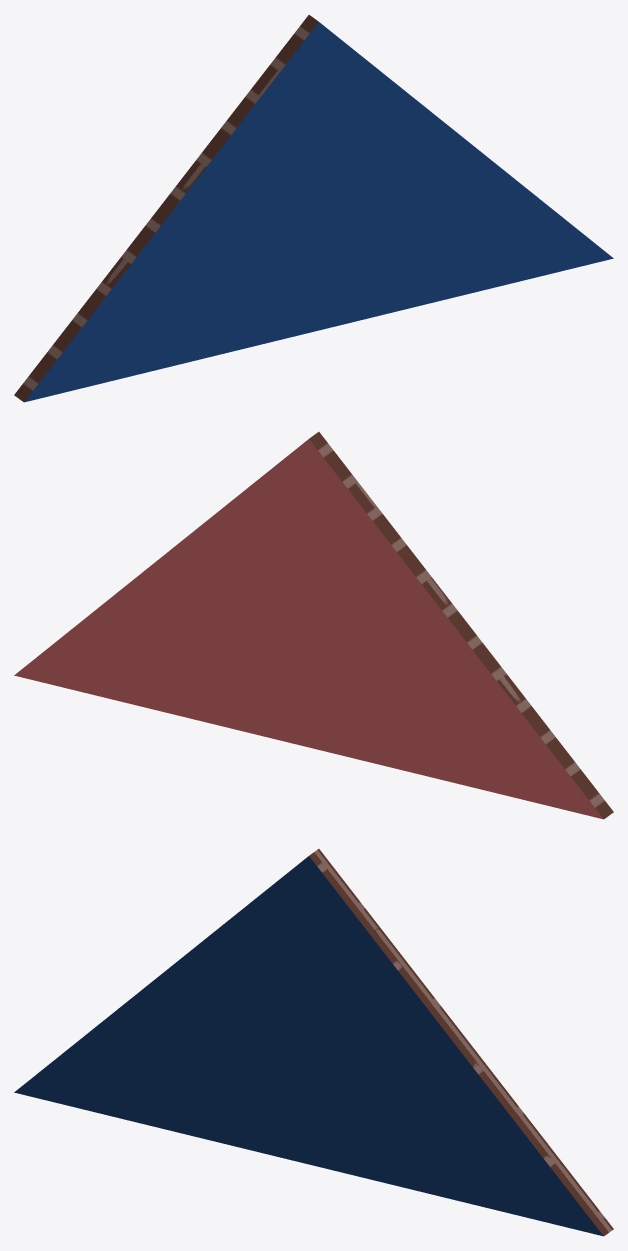
The model's file is pediment1.FBX.
3 views of the same model, one above another, from view 1: azimuth 30°, elevation 25°; view 2: azimuth 150°, elevation 25°; view 3: azimuth 330°, elevation 25° (orthographic).
Parts seen in each view (by area): view 1: pediment1; view 2: pediment1; view 3: pediment1.
Boxes of the visible parts, bbox=[...] form: pediment1: bbox=[14, 15, 613, 402]; pediment1: bbox=[14, 432, 613, 819]; pediment1: bbox=[14, 849, 613, 1236].
Bounding box in the file's own units: 1700 × 850 × 50.
Materials: 3 (1 with a texture image).
